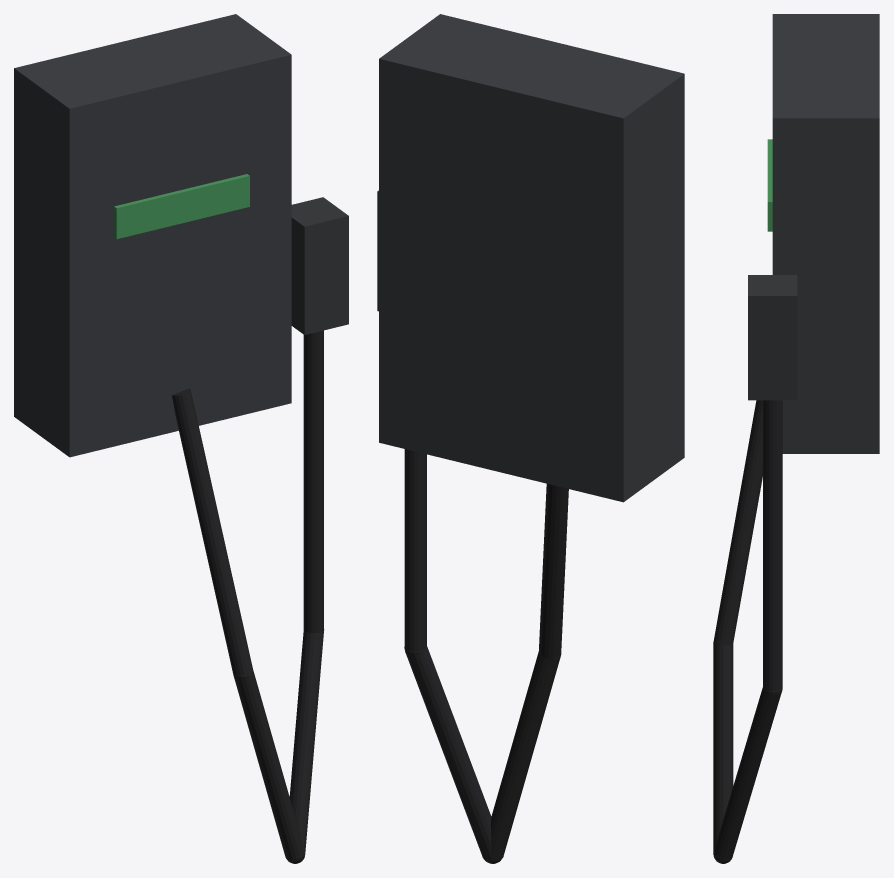
3 views of the same model, side by side, from view 1: azimuth 30°, elevation 25°; view 2: azimuth 150°, elevation 25°; view 3: azimuth 270°, elevation 25° (orthographic). The views are drawn at different scales.
Visible parts, largest first — view 1: baseOffset=1;depth=0.15;height=0.45;material=steel_dark;powe (×4); view 2: baseOffset=1;depth=0.15;height=0.45;material=steel_dark;powe (×2); view 3: baseOffset=1;depth=0.15;height=0.45;material=steel_dark;powe (×4).
Part boxes in pixels (box(x1,y1,x2,y2)): baseOffset=1;depth=0.15;height=0.45;material=steel_dark;powe (×4): box(14, 14, 348, 863); baseOffset=1;depth=0.15;height=0.45;material=steel_dark;powe (×2): box(379, 14, 684, 863); baseOffset=1;depth=0.15;height=0.45;material=steel_dark;powe (×4): box(713, 14, 879, 863).
Bounding box in the file's own units: 0.36 × 0.2022 × 1.01.
